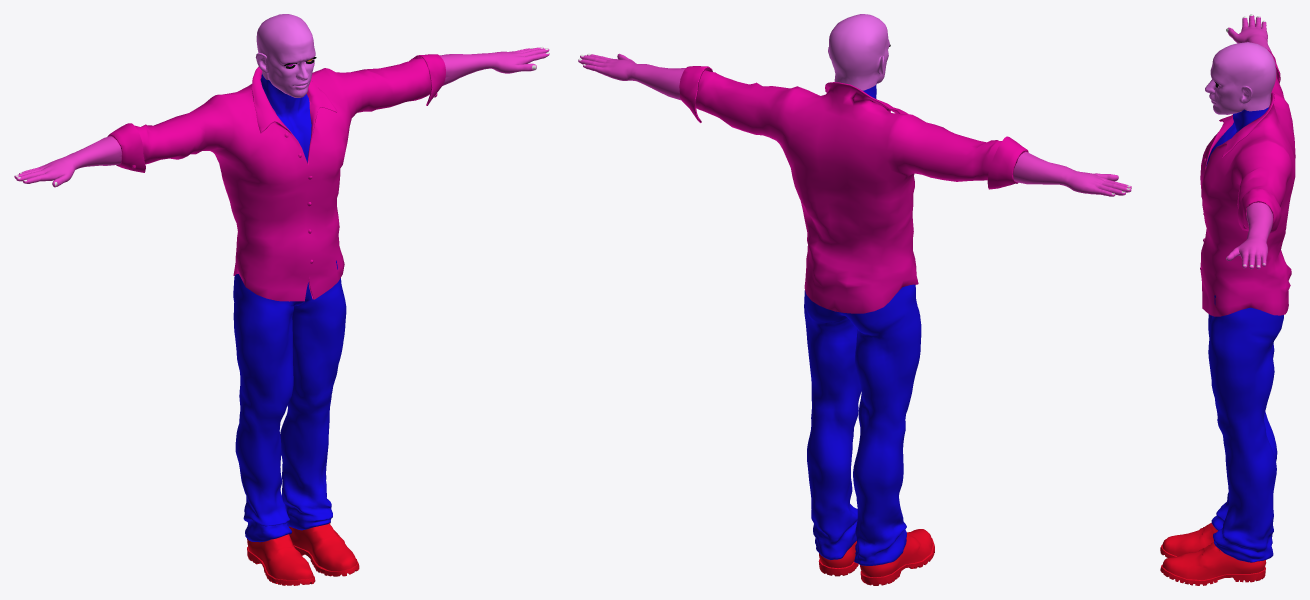
The model's file is ManModal.glb.
3 views of the same model, side by side, from view 1: azimuth 30°, elevation 25°; view 2: azimuth 150°, elevation 25°; view 3: azimuth 270°, elevation 25° (orthographic). The views are drawn at different scales.
Visible parts, largest first — view 1: ganja; view 2: ganja; view 3: ganja.
Boxes of the visible parts, bbox=[...] form: ganja: bbox=[14, 14, 549, 585]; ganja: bbox=[578, 14, 1131, 585]; ganja: bbox=[1160, 14, 1295, 585].
Size of the model in its own units: 4.63 by 4.46 by 1.05.
